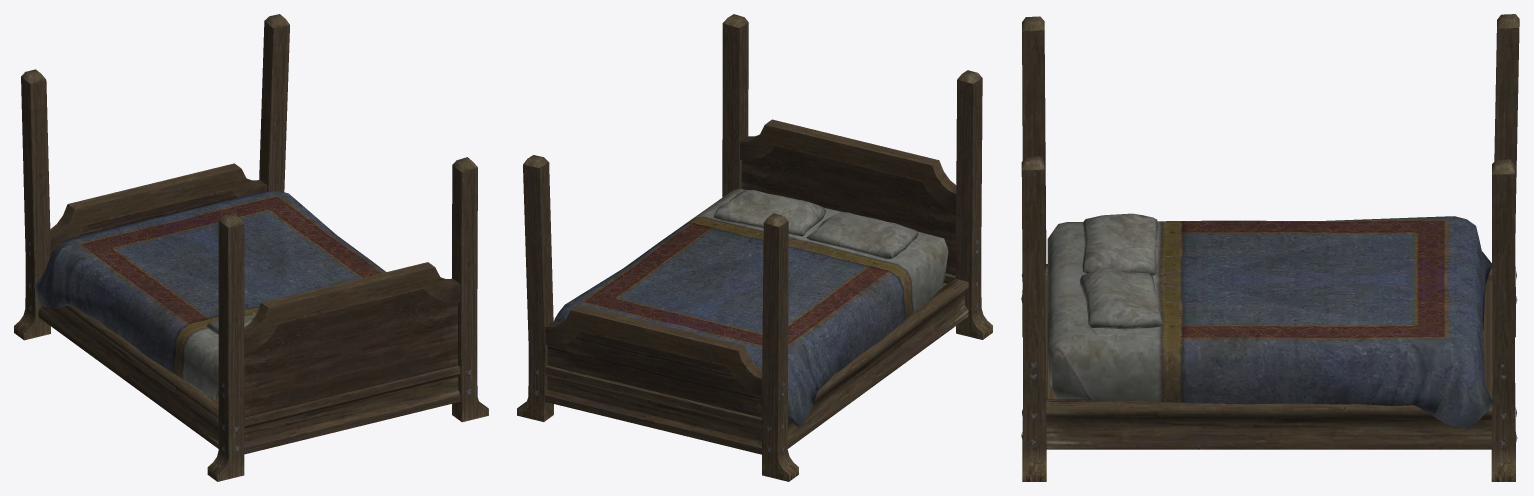
Rendered from eso_gu3_woodfurniture25-transformed.glb.
3 renders of one model, left to right at view 1: azimuth 30°, elevation 25°; view 2: azimuth 150°, elevation 25°; view 3: azimuth 270°, elevation 25°, orthographic. The views are drawn at different scales.
Visible parts, largest first — view 1: default; view 2: default; view 3: default.
Part boxes in pixels (bbox=[...]): default: bbox=[14, 14, 488, 481]; default: bbox=[517, 14, 992, 481]; default: bbox=[1021, 14, 1519, 481].
Bounding box in the file's own units: 3.11 × 2.84 × 4.08.
Materials: 1 (1 with a texture image).
